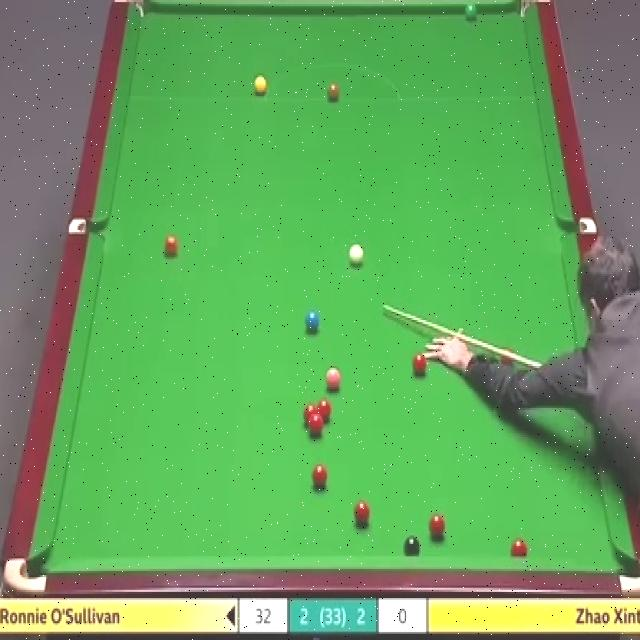black-ball: (403, 534, 420, 556)
blue-ball: (303, 310, 319, 333)
brown-ball: (326, 80, 341, 103)
green-ball: (464, 3, 478, 19)
pink-ball: (325, 363, 341, 390)
red-ball: (354, 499, 371, 528), (429, 512, 446, 540), (312, 463, 328, 489), (163, 233, 179, 258), (309, 414, 323, 437), (512, 538, 528, 558), (318, 398, 331, 422), (414, 352, 426, 378), (304, 405, 317, 418)
white-ball: (348, 242, 365, 268)
yellow-ball: (253, 75, 267, 95)
